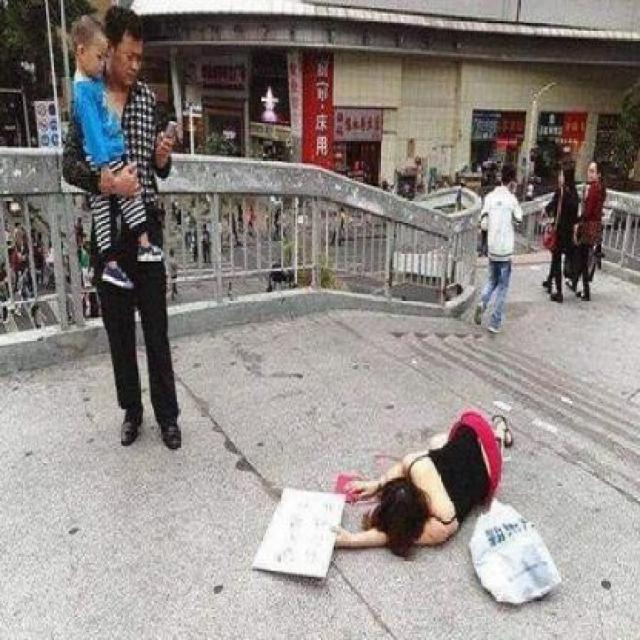fall: (314, 388, 520, 568)
